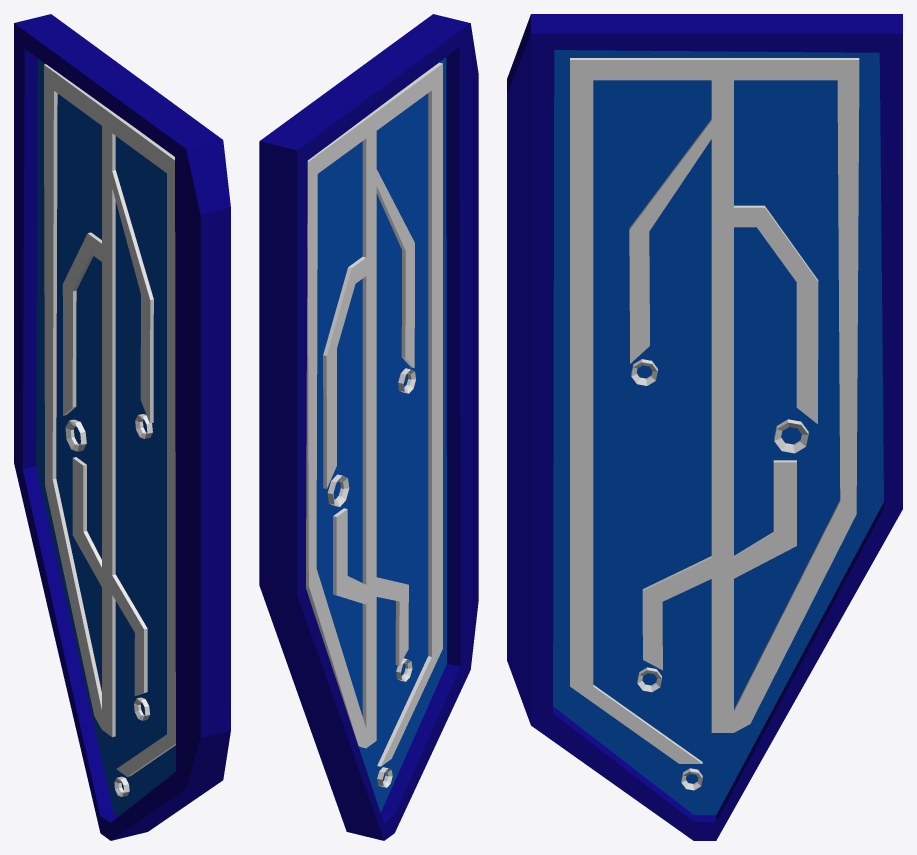
File: chip2.fbx
3 renders of one model, left to right at view 1: azimuth 30°, elevation 25°; view 2: azimuth 150°, elevation 25°; view 3: azimuth 270°, elevation 25°, orthographic. The views are drawn at different scales.
Parts seen in each view (by area): view 1: Base_2, Circuitos_2; view 2: Base_2, Circuitos_2; view 3: Base_2, Circuitos_2.
Boxes of the visible parts, left/top/right/bottom form: Base_2: left=14, top=14, right=230, bottom=840; Circuitos_2: left=44, top=64, right=175, bottom=796; Base_2: left=259, top=14, right=478, bottom=840; Circuitos_2: left=306, top=62, right=442, bottom=787; Base_2: left=507, top=14, right=902, bottom=840; Circuitos_2: left=570, top=58, right=859, bottom=790.
Bounding box in the file's own units: 5.77 × 111 × 49.29.
